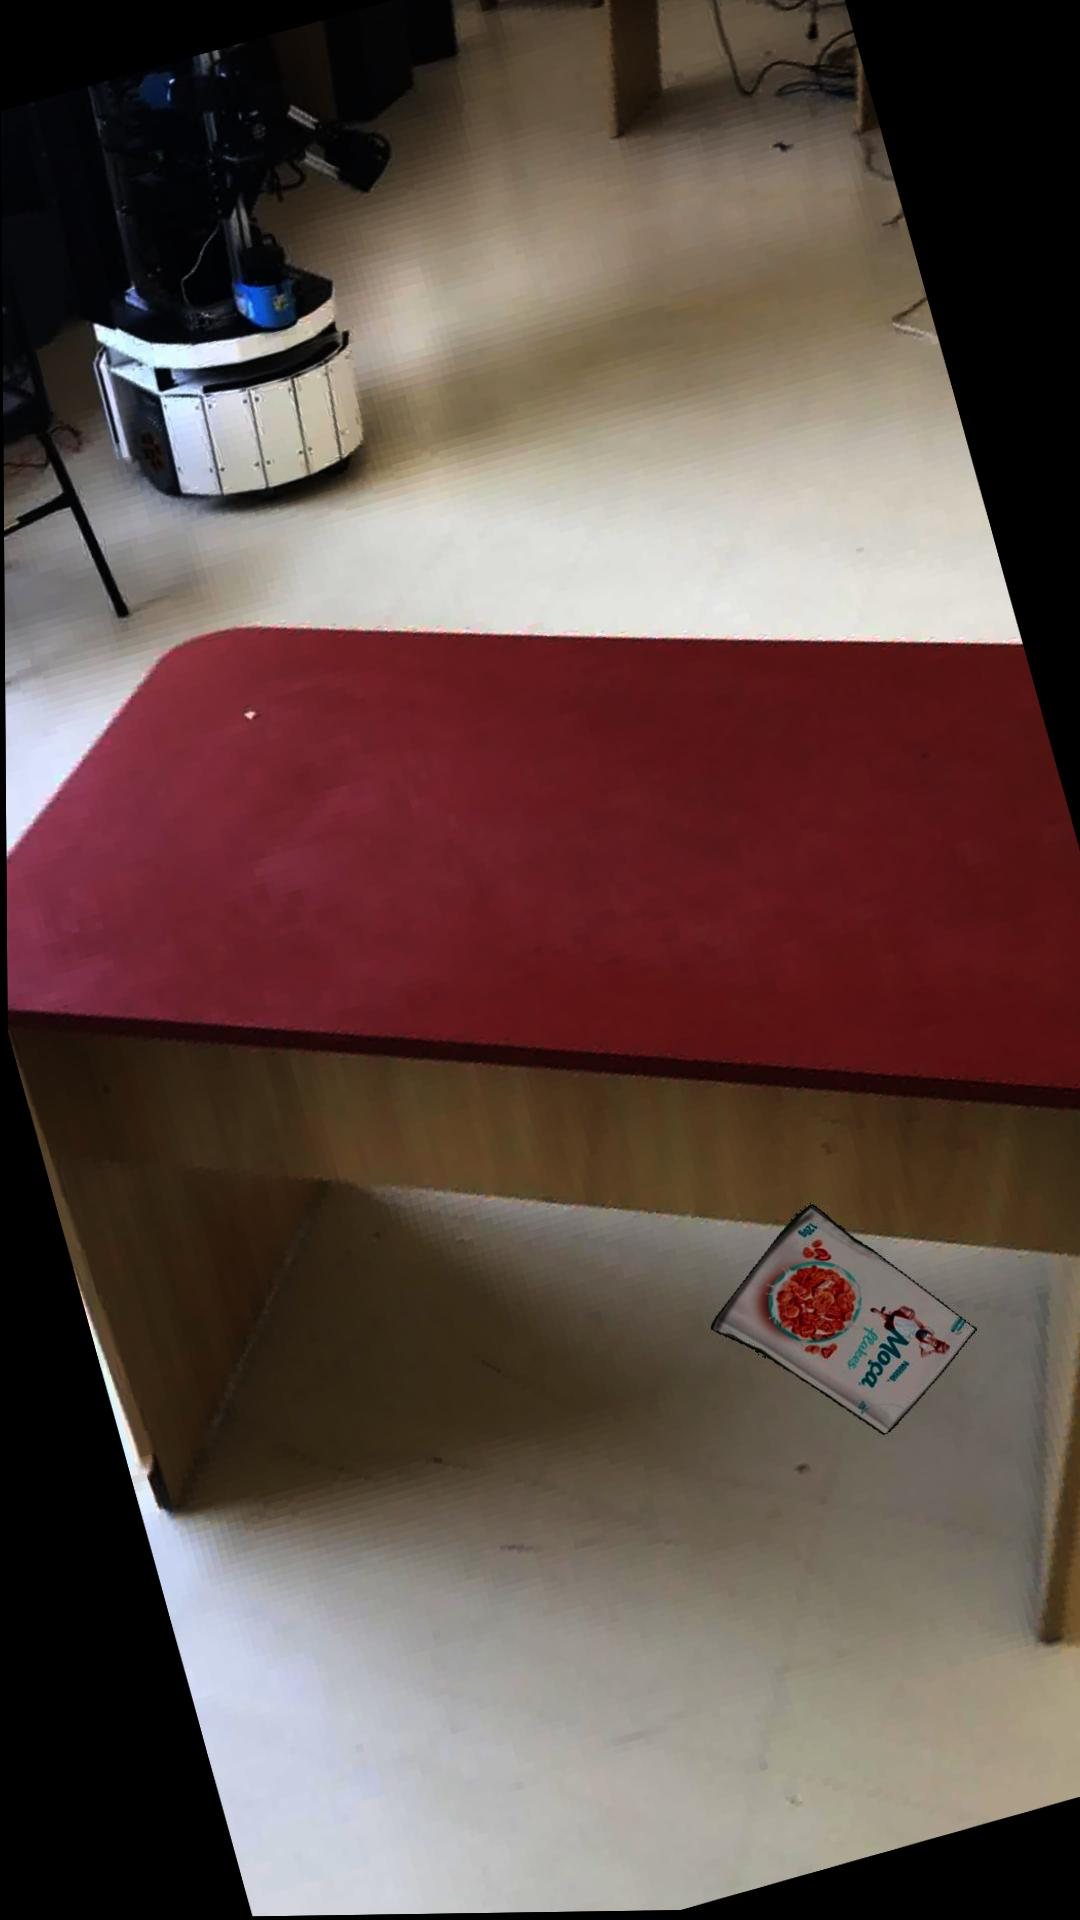corn flakes: (708, 1207, 973, 1436)
